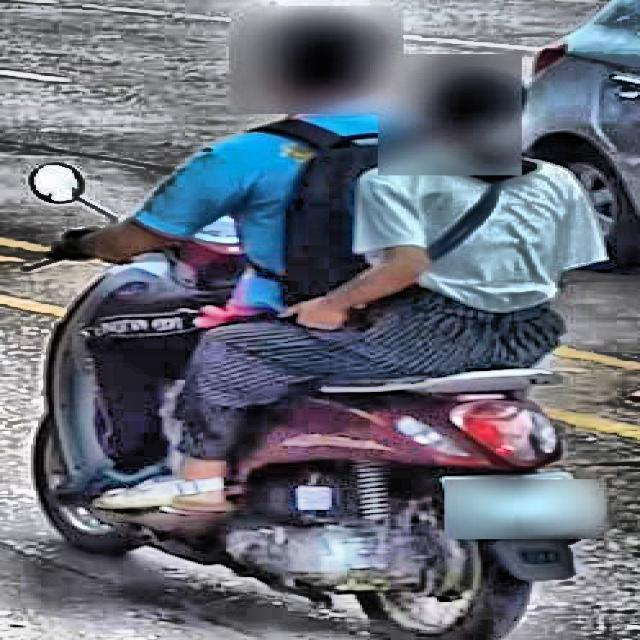motorcycle: (10, 147, 639, 640)
